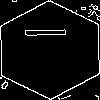I: (25, 25, 78, 39)
